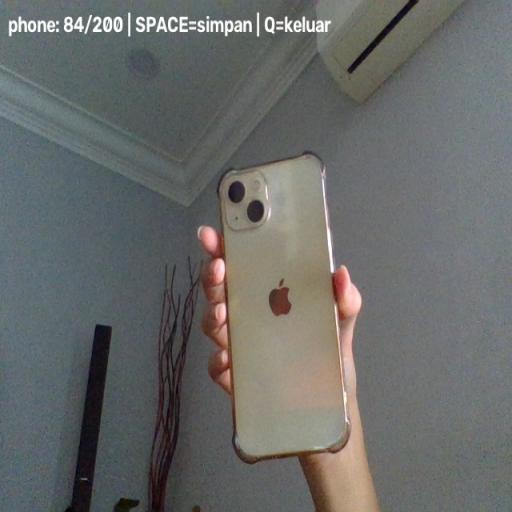Phone: (217, 150, 351, 465)
